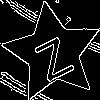Z: (27, 27, 76, 83)
